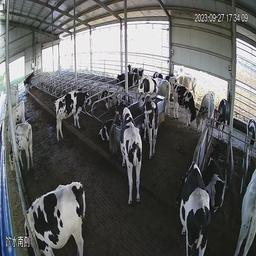cow: (16, 186, 95, 252), (173, 149, 211, 248), (116, 101, 143, 212), (50, 86, 92, 144), (6, 124, 43, 173), (139, 90, 160, 165), (239, 151, 255, 249), (207, 141, 226, 219), (197, 82, 217, 134), (172, 82, 195, 126), (113, 62, 136, 94), (4, 100, 30, 128), (219, 87, 231, 136), (138, 72, 160, 97), (3, 83, 23, 107), (161, 73, 173, 112), (98, 112, 112, 141), (99, 86, 114, 109)
